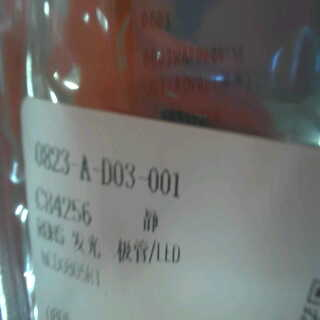LED: (65, 229, 190, 266)
